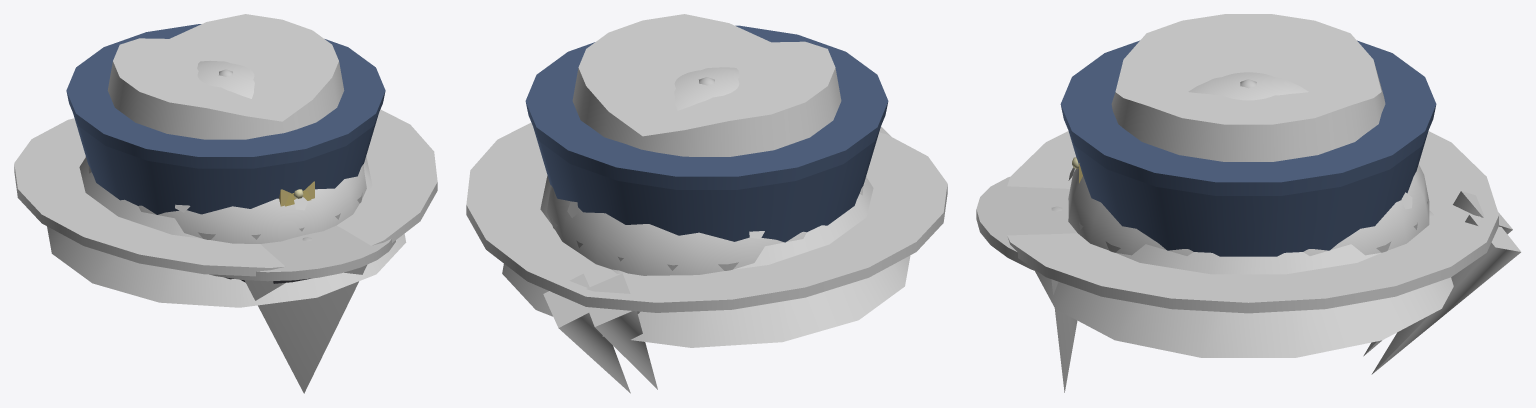
The model's file is accessories.glb.
The picture shows the model from 3 angles, left to right: view 1: azimuth 30°, elevation 25°; view 2: azimuth 150°, elevation 25°; view 3: azimuth 270°, elevation 25°; orthographic projection. The views are drawn at different scales.
Visible parts, largest first — view 1: hat, police, neck, doRag, cap; view 2: hat, police, doRag, neck; view 3: hat, police, neck, doRag, cap.
Boxes of the visible parts, x1,y1,x2,y2 form: hat: [14, 14, 437, 276]; police: [66, 24, 385, 283]; neck: [47, 156, 406, 393]; doRag: [85, 60, 366, 243]; cap: [198, 69, 395, 281]; hat: [466, 14, 947, 312]; police: [525, 25, 888, 242]; doRag: [543, 67, 866, 393]; neck: [502, 175, 910, 347]; hat: [1007, 14, 1498, 313]; police: [1060, 40, 1436, 256]; neck: [1035, 206, 1453, 392]; doRag: [1068, 72, 1520, 374]; cap: [976, 79, 1427, 271].
Bounding box in the file's own units: 0.3008 × 0.215 × 0.3272.
